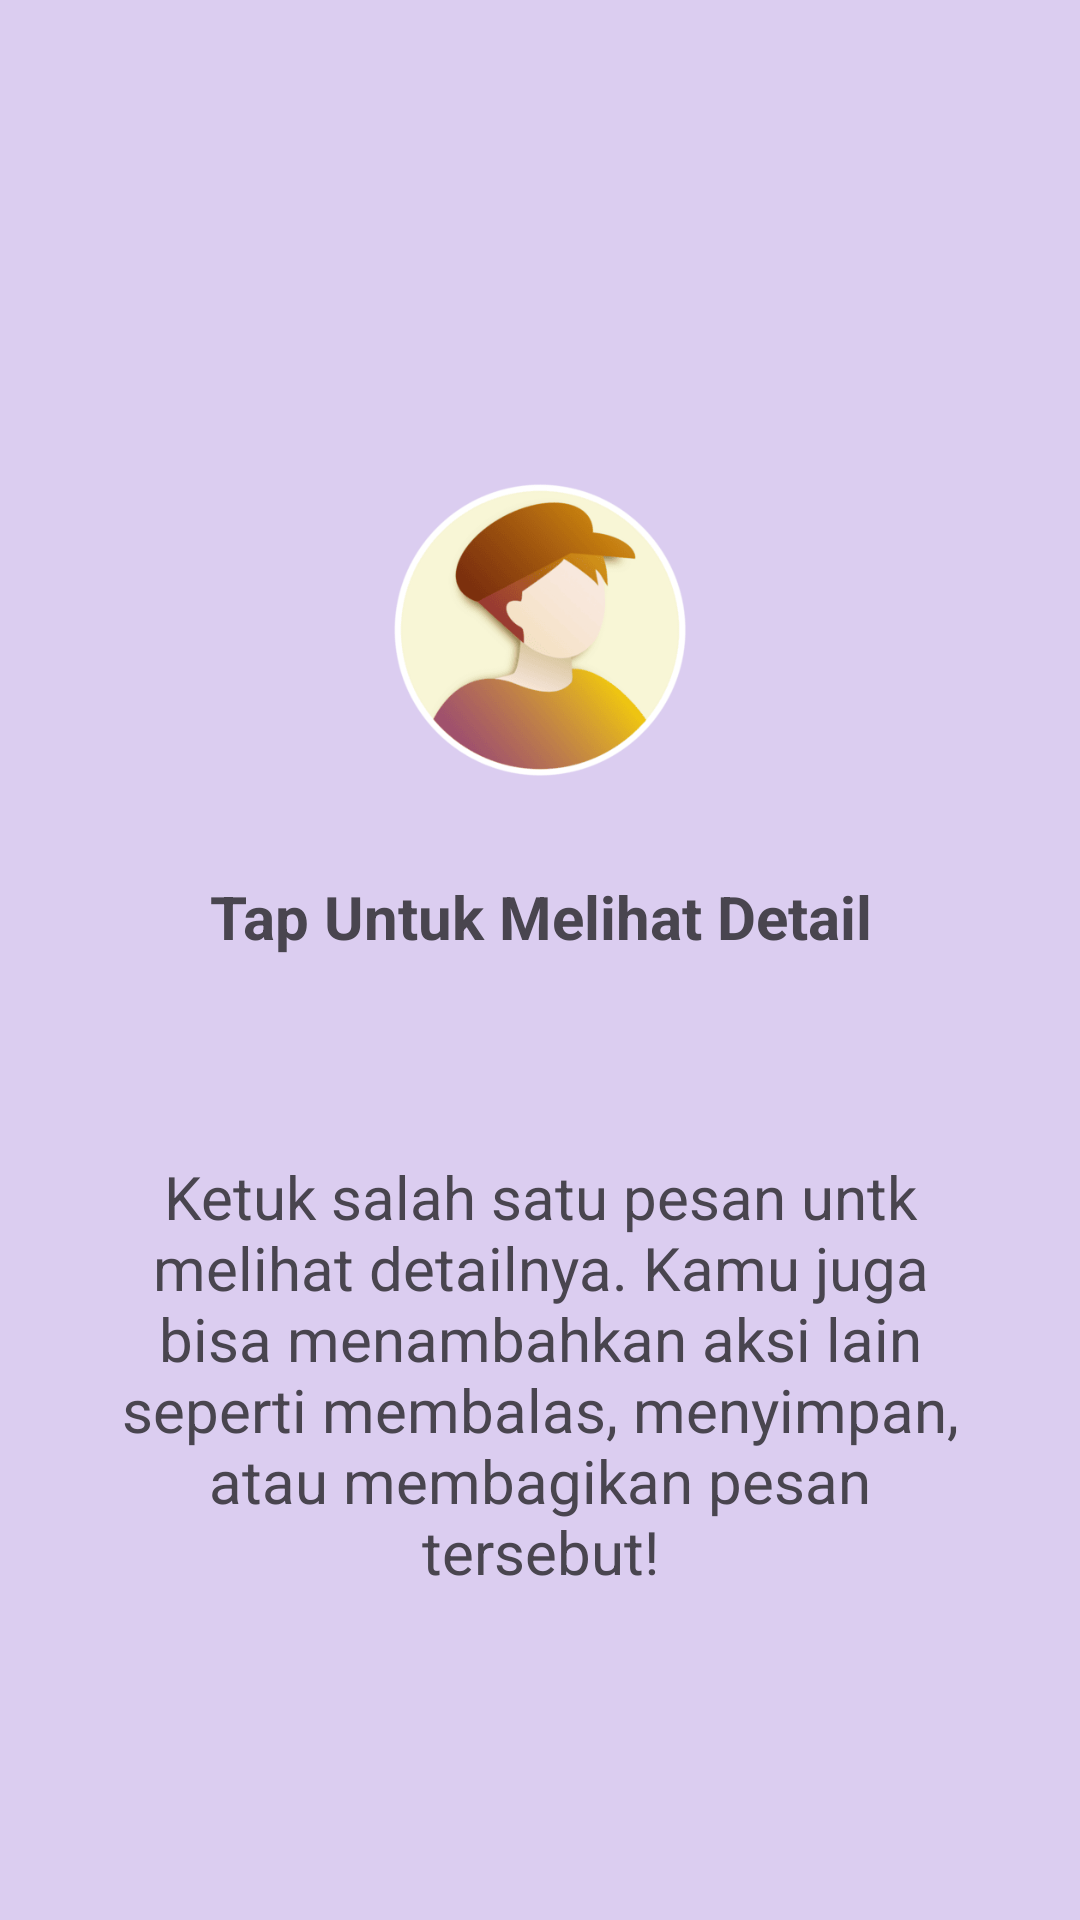

Icon click points for this 1080 x 1920 phone screenshot, format [x,y]:
profil: [540,630]
